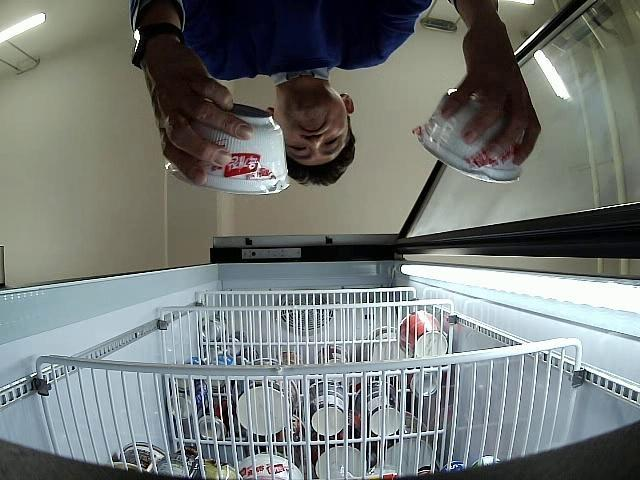09_yukGaeJang: (166, 104, 292, 194), (422, 90, 522, 183)
